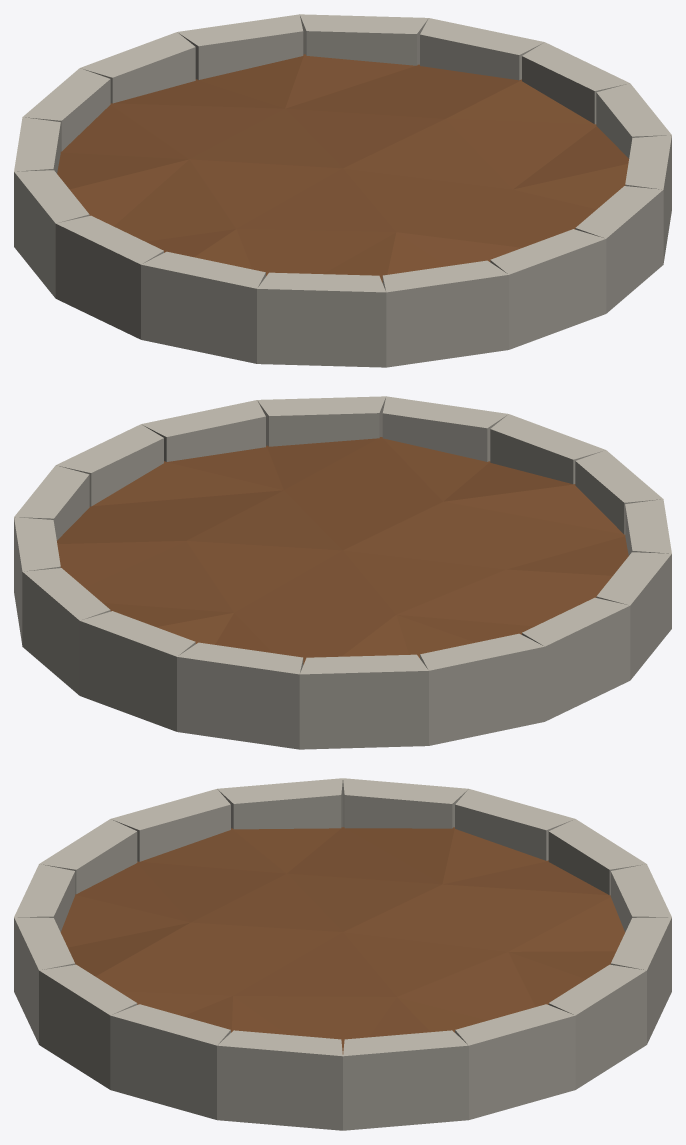
Rendered from FMS_Garden_Bed_Round.fbx.
3 views of the same model, one above another, from view 1: azimuth 30°, elevation 25°; view 2: azimuth 150°, elevation 25°; view 3: azimuth 270°, elevation 25° (orthographic).
Visible parts, largest first — view 1: FMS_Garden_Bed_Round_Body; view 2: FMS_Garden_Bed_Round_Body; view 3: FMS_Garden_Bed_Round_Body.
Boxes of the visible parts, box(x1,y1,x2,y2) form: FMS_Garden_Bed_Round_Body: box(14, 14, 671, 367); FMS_Garden_Bed_Round_Body: box(14, 396, 671, 749); FMS_Garden_Bed_Round_Body: box(14, 778, 671, 1130).
Bounding box in the file's own units: 2 × 0.25 × 2.
Materials: 1 (1 with a texture image).
